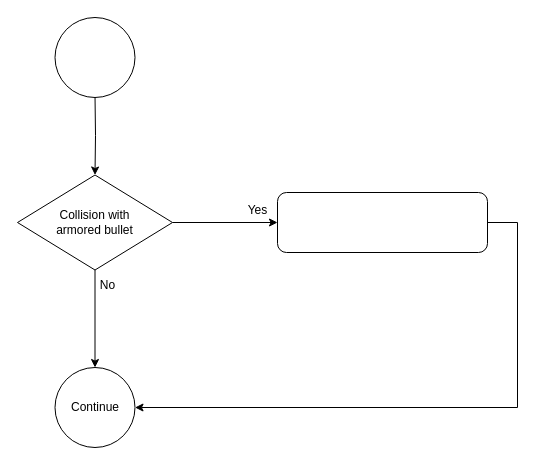
This 543x465 diagram has some shape labels left out. Each missing label, with the box of its shape:
Start: (54, 16, 135, 98)
SteelBlock.Destroy(): (276, 192, 488, 252)
